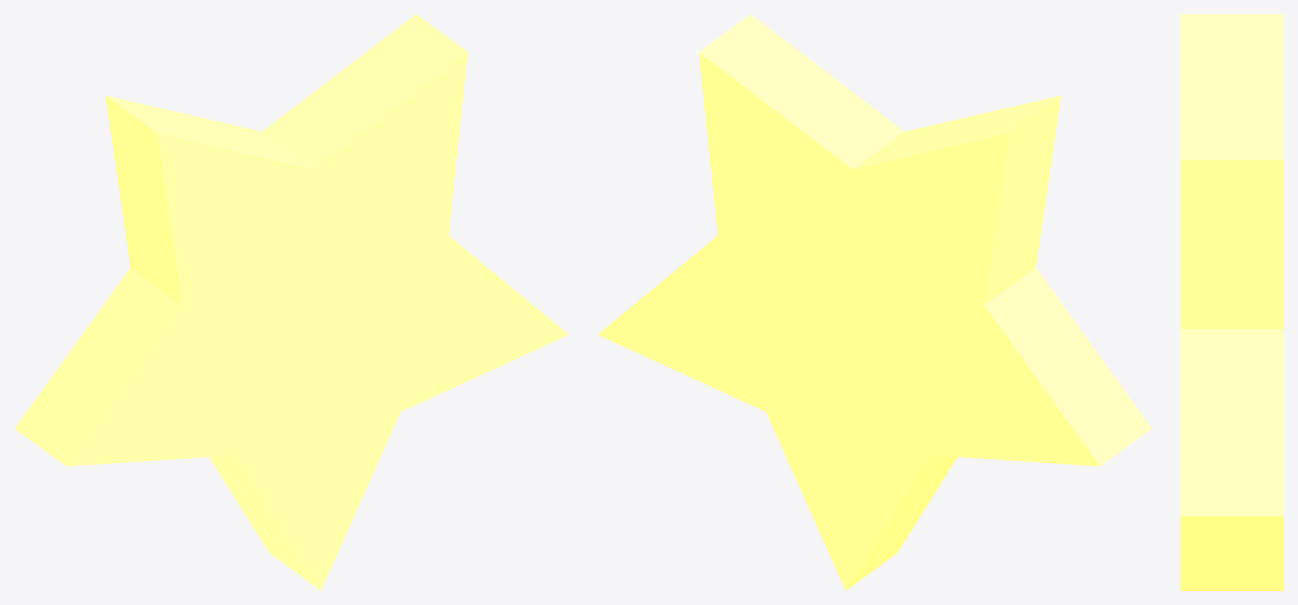
The model's file is pentagram.glb.
3 views of the same model, side by side, from view 1: azimuth 30°, elevation 25°; view 2: azimuth 150°, elevation 25°; view 3: azimuth 270°, elevation 25° (orthographic).
Parts seen in each view (by area): view 1: 円; view 2: 円; view 3: 円.
Boxes of the visible parts, left/top/right/bottom form: 円: left=14, top=14, right=568, bottom=590; 円: left=597, top=14, right=1151, bottom=590; 円: left=1180, top=14, right=1283, bottom=590.
Size of the model in its own units: 0.5384 by 0.5149 by 0.0962.
